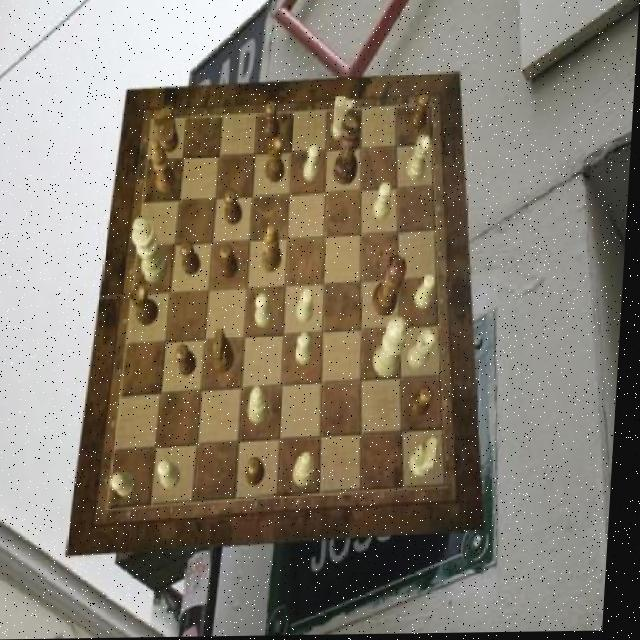bishop: (151, 139, 181, 194), (266, 226, 288, 274)
black-bishop: (337, 110, 365, 186)
black-king: (153, 107, 182, 154), (218, 331, 241, 375)
black-knight: (182, 242, 206, 277), (414, 388, 439, 419), (412, 95, 432, 133), (179, 345, 202, 378), (225, 190, 246, 226), (222, 245, 243, 279), (266, 103, 284, 142), (251, 460, 271, 488)
black-pawn: (374, 257, 410, 319)
black-queen: (133, 286, 164, 328), (267, 138, 288, 184)
black-rook: (298, 452, 323, 488), (254, 387, 276, 425)
white-bishop: (133, 218, 174, 284)
white-king: (415, 439, 444, 479), (332, 97, 355, 142)
white-knight: (417, 276, 440, 311), (163, 459, 188, 490), (117, 472, 144, 498), (376, 183, 394, 221), (305, 145, 323, 183), (300, 288, 319, 323), (258, 295, 277, 329), (300, 334, 319, 367)
white-pawn: (378, 320, 414, 380)
white-queen: (408, 136, 433, 183), (411, 332, 440, 372)
